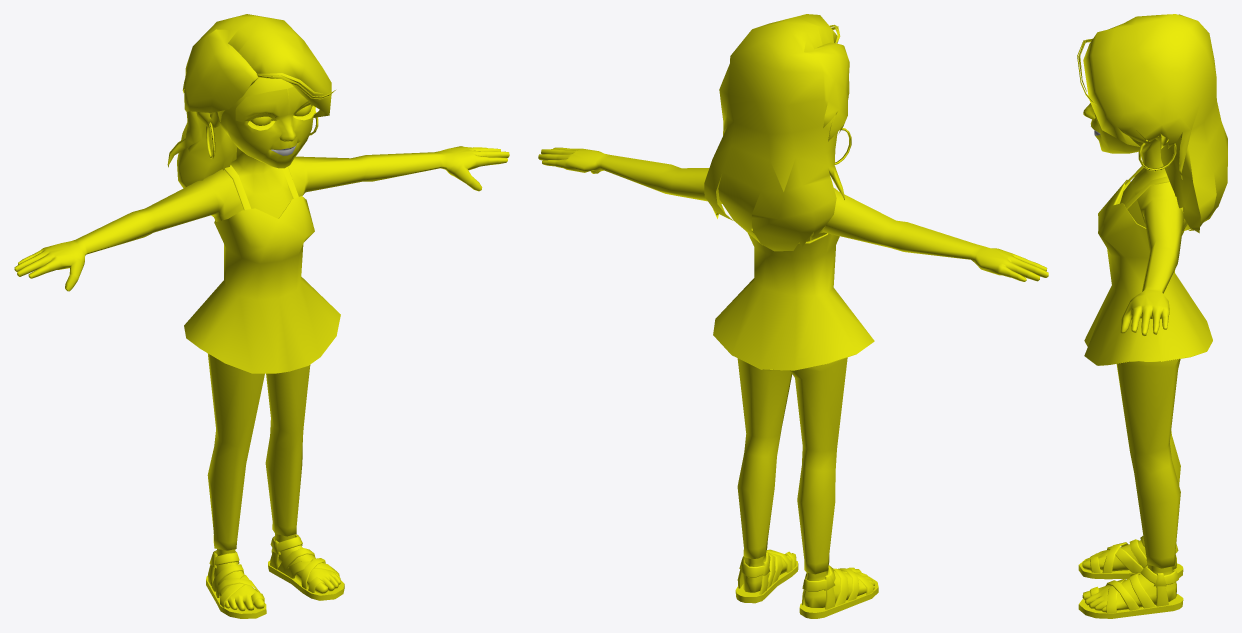
File: Female_Base_LOD_C_Fixed2.glb
3 renders of one model, left to right at view 1: azimuth 30°, elevation 25°; view 2: azimuth 150°, elevation 25°; view 3: azimuth 270°, elevation 25°, orthographic. The views are drawn at different scales.
Parts seen in each view (by area): view 1: Basebody_Geo, Dress_01_Geo, Hair_01_Geo, Trouser_01_Geo, L_Shoe_01_Geo, R_Shoe_01_Geo, R_eyebrows_Geo; view 2: Hair_01_Geo, Trouser_01_Geo, Dress_01_Geo, Basebody_Geo, R_Shoe_01_Geo, L_Shoe_01_Geo; view 3: Hair_01_Geo, Dress_01_Geo, Basebody_Geo, Trouser_01_Geo, L_Shoe_01_Geo, R_Shoe_01_Geo, L_Ear_rings_01_Geo.
Part boxes in pixels (box(x1,y1,x2,y2)): Basebody_Geo: box(14, 75, 509, 611); Dress_01_Geo: box(184, 165, 340, 373); Hair_01_Geo: box(167, 14, 335, 188); Trouser_01_Geo: box(207, 353, 310, 550); L_Shoe_01_Geo: box(268, 534, 344, 600); R_Shoe_01_Geo: box(206, 550, 266, 618); R_eyebrows_Geo: box(235, 89, 288, 122); Hair_01_Geo: box(704, 14, 849, 251); Trouser_01_Geo: box(737, 357, 847, 574); Dress_01_Geo: box(713, 226, 874, 370); Basebody_Geo: box(538, 97, 1048, 607); R_Shoe_01_Geo: box(799, 565, 878, 618); L_Shoe_01_Geo: box(735, 549, 798, 603); Hair_01_Geo: box(1077, 14, 1227, 233); Dress_01_Geo: box(1084, 166, 1212, 365); Basebody_Geo: box(1082, 103, 1186, 612); Trouser_01_Geo: box(1116, 359, 1180, 568); L_Shoe_01_Geo: box(1078, 564, 1183, 618); R_Shoe_01_Geo: box(1078, 536, 1183, 579); L_Ear_rings_01_Geo: box(1138, 136, 1176, 171).
Bounding box in the file's own units: 1.53 × 1.67 × 0.3996.
10 materials, 9 textured.
